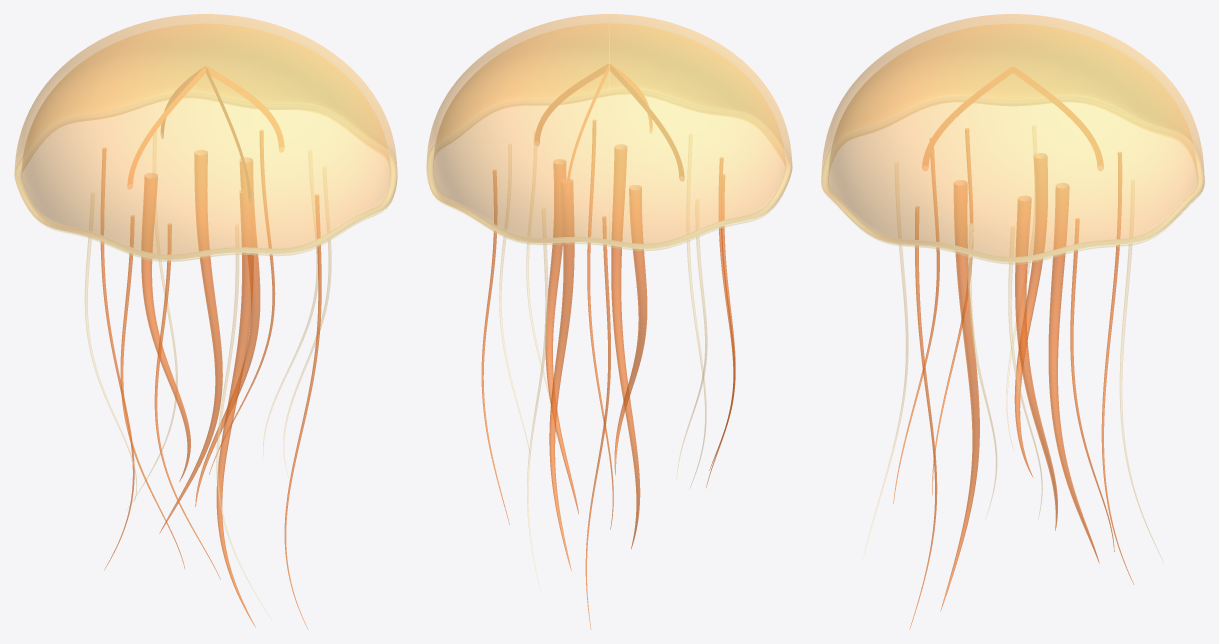
The model's file is glass-jellyfish-orange.glb.
The picture shows the model from 3 angles, left to right: view 1: azimuth 30°, elevation 25°; view 2: azimuth 150°, elevation 25°; view 3: azimuth 270°, elevation 25°; orthographic projection. The views are drawn at different scales.
Visible parts, largest first — view 1: Thin rounded glass bell, Soft glass lip, Inner flowing arm 12, Inner flowing arm 11, Inner flowing arm 13, Inner flowing arm 14, Fine glass tentacle 4, Fine glass tentacle 8, Fine glass tentacle 7, Fine glass tentacle 2, Fine glass tentacle 10, Fine glass tentacle 6 (+6 smaller); view 2: Thin rounded glass bell, Inner flowing arm 12, Soft glass lip, Inner flowing arm 11, Inner flowing arm 14, Inner flowing arm 13, Fine glass tentacle 4, Fine glass tentacle 8, Fine glass tentacle 3, Fine glass tentacle 6, Fine glass tentacle 10, Fine glass tentacle 7 (+6 smaller); view 3: Thin rounded glass bell, Soft glass lip, Inner flowing arm 12, Inner flowing arm 11, Inner flowing arm 14, Inner flowing arm 13, Fine glass tentacle 8, Fine glass tentacle 4, Fine glass tentacle 3, Fine glass tentacle 7, Fine glass tentacle 6, Fine glass tentacle 2 (+5 smaller).
Boxes of the visible parts, left/top/right/bottom form: Thin rounded glass bell: left=14, top=14, right=397, bottom=259; Soft glass lip: left=14, top=151, right=397, bottom=262; Inner flowing arm 12: left=216, top=189, right=255, bottom=627; Inner flowing arm 11: left=159, top=150, right=222, bottom=533; Inner flowing arm 13: left=141, top=173, right=190, bottom=481; Inner flowing arm 14: left=195, top=158, right=260, bottom=506; Fine glass tentacle 4: left=284, top=195, right=321, bottom=629; Fine glass tentacle 8: left=100, top=148, right=134, bottom=570; Fine glass tentacle 7: left=216, top=225, right=272, bottom=621; Fine glass tentacle 2: left=154, top=224, right=220, bottom=579; Fine glass tentacle 10: left=120, top=215, right=184, bottom=568; Fine glass tentacle 6: left=209, top=130, right=275, bottom=474; Thin rounded glass bell: left=426, top=14, right=792, bottom=248; Inner flowing arm 12: left=611, top=144, right=640, bottom=548; Soft glass lip: left=426, top=145, right=792, bottom=251; Inner flowing arm 11: left=549, top=179, right=574, bottom=570; Inner flowing arm 14: left=545, top=159, right=578, bottom=513; Inner flowing arm 13: left=614, top=185, right=647, bottom=474; Fine glass tentacle 4: left=587, top=120, right=613, bottom=529; Fine glass tentacle 8: left=585, top=216, right=610, bottom=629; Fine glass tentacle 3: left=527, top=209, right=548, bottom=592; Fine glass tentacle 6: left=481, top=170, right=509, bottom=524; Fine glass tentacle 10: left=706, top=174, right=735, bottom=487; Fine glass tentacle 7: left=687, top=134, right=706, bottom=487; Thin rounded glass bell: left=821, top=14, right=1204, bottom=262; Soft glass lip: left=821, top=145, right=1204, bottom=264; Inner flowing arm 12: left=940, top=180, right=979, bottom=611; Inner flowing arm 11: left=1048, top=183, right=1099, bottom=563; Inner flowing arm 14: left=1015, top=196, right=1057, bottom=530; Inner flowing arm 13: left=1014, top=153, right=1047, bottom=477; Fine glass tentacle 8: left=1101, top=152, right=1133, bottom=584; Fine glass tentacle 4: left=909, top=206, right=937, bottom=629; Fine glass tentacle 3: left=1119, top=181, right=1163, bottom=562; Fine glass tentacle 7: left=862, top=163, right=908, bottom=560; Fine glass tentacle 6: left=1070, top=218, right=1114, bottom=551; Fine glass tentacle 2: left=893, top=138, right=939, bottom=503.
Size of the model in its own units: 1.4 by 2.29 by 1.4.
